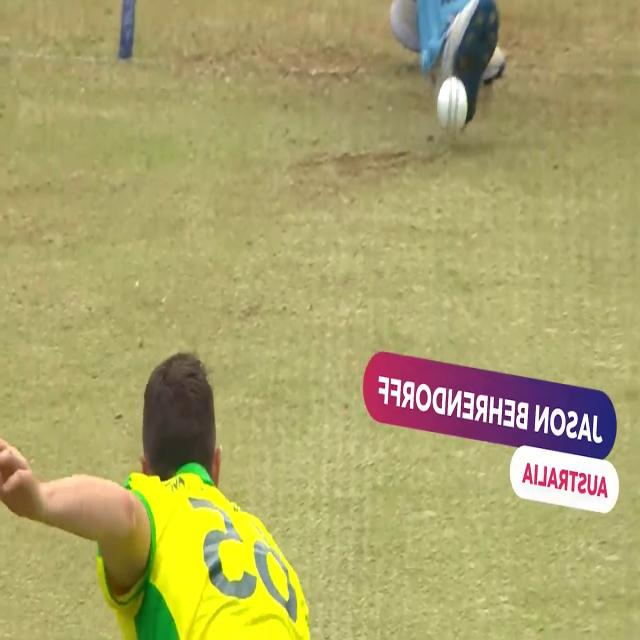ball: (432, 71, 473, 142)
